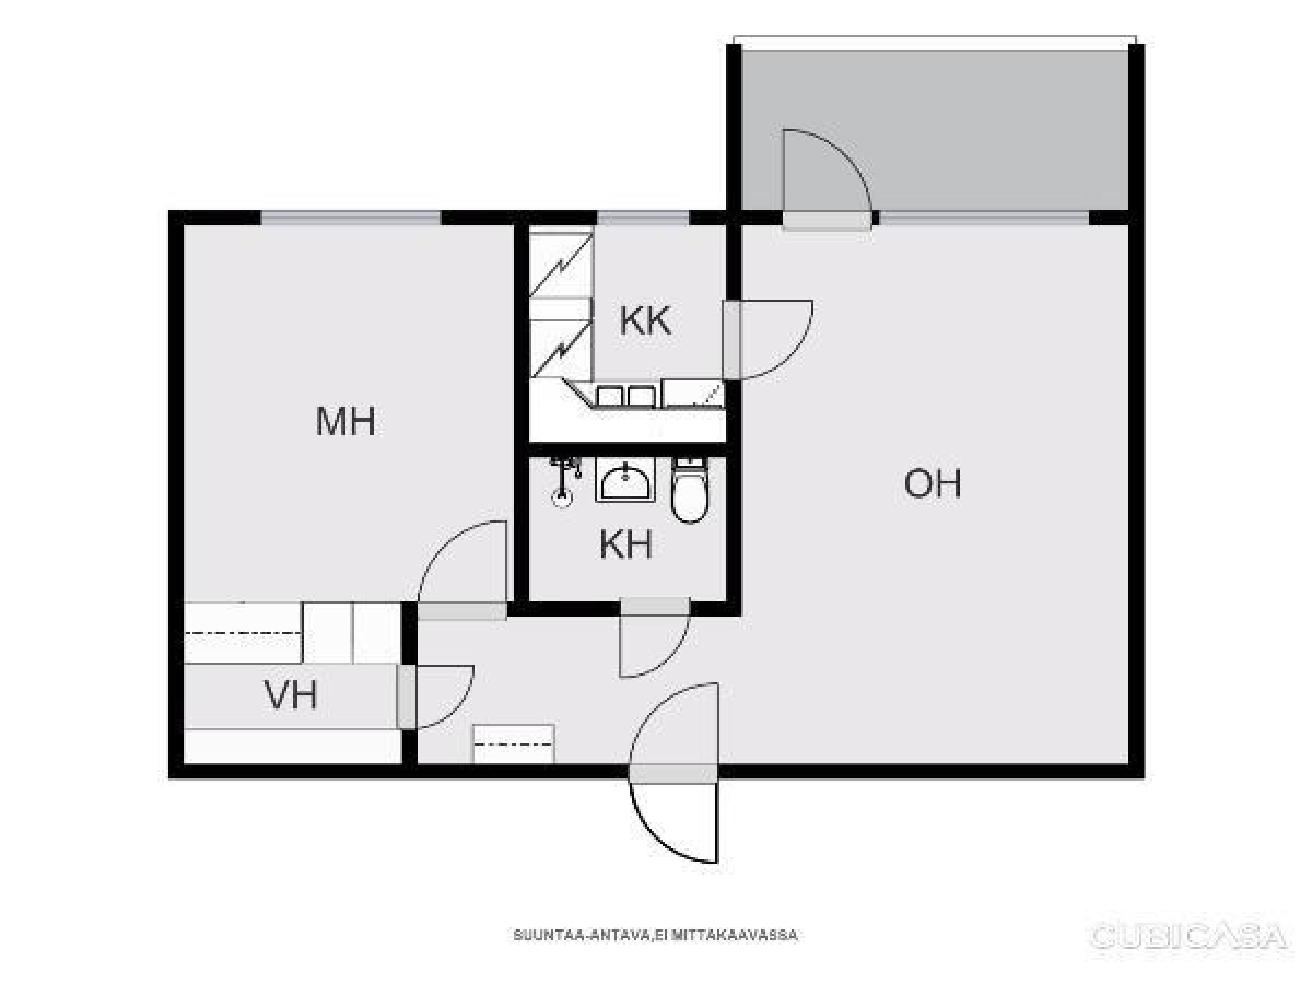door: (621, 677, 735, 869), (711, 295, 842, 392), (410, 514, 517, 618), (783, 131, 877, 230), (395, 662, 479, 728), (616, 598, 687, 676)
window: (260, 212, 442, 229), (596, 204, 688, 233), (871, 213, 1086, 223)
zone: (740, 221, 1131, 764), (187, 224, 509, 599), (743, 49, 1129, 214), (408, 599, 741, 766), (530, 226, 727, 442), (177, 598, 404, 764), (531, 456, 728, 597)
